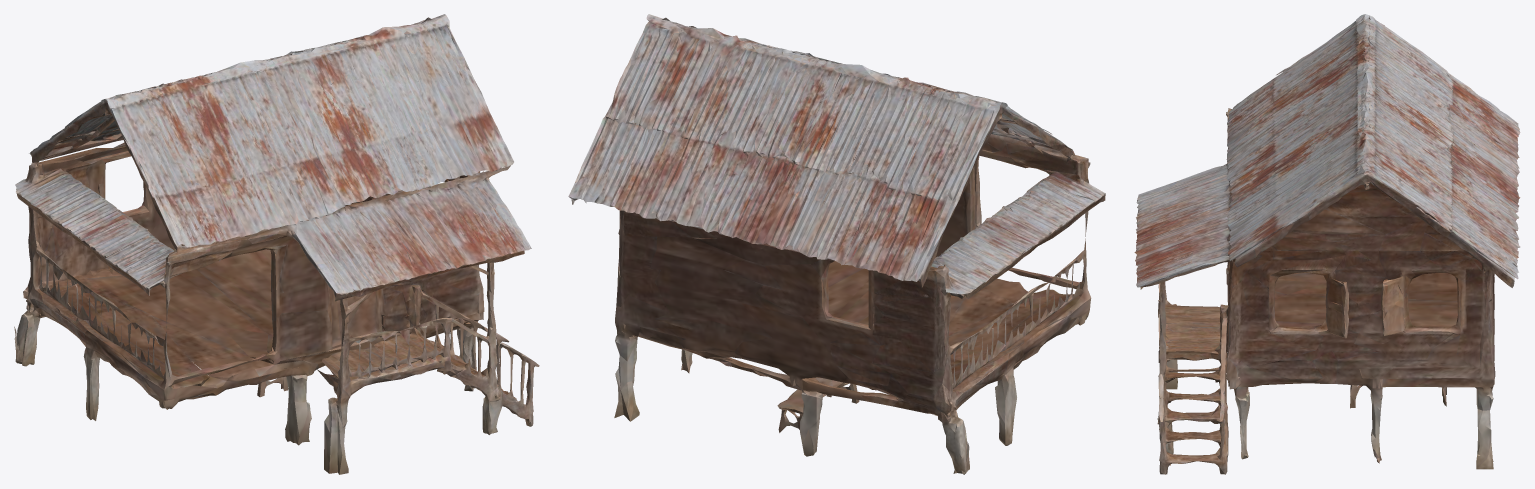
File: w3isanhouse.glb
3 renders of one model, left to right at view 1: azimuth 30°, elevation 25°; view 2: azimuth 150°, elevation 25°; view 3: azimuth 270°, elevation 25°, orthographic. The views are drawn at different scales.
Visible parts, largest first — view 1: output_unwrapped; view 2: output_unwrapped; view 3: output_unwrapped.
Part boxes in pixels (x1=…): output_unwrapped: x1=14, y1=14, x2=539, y2=474; output_unwrapped: x1=568, y1=14, x2=1105, y2=474; output_unwrapped: x1=1134, y1=14, x2=1520, y2=474.
Bounding box in the file's own units: 6.53 × 5.6 × 6.18.
Materials: 1 (1 with a texture image).
